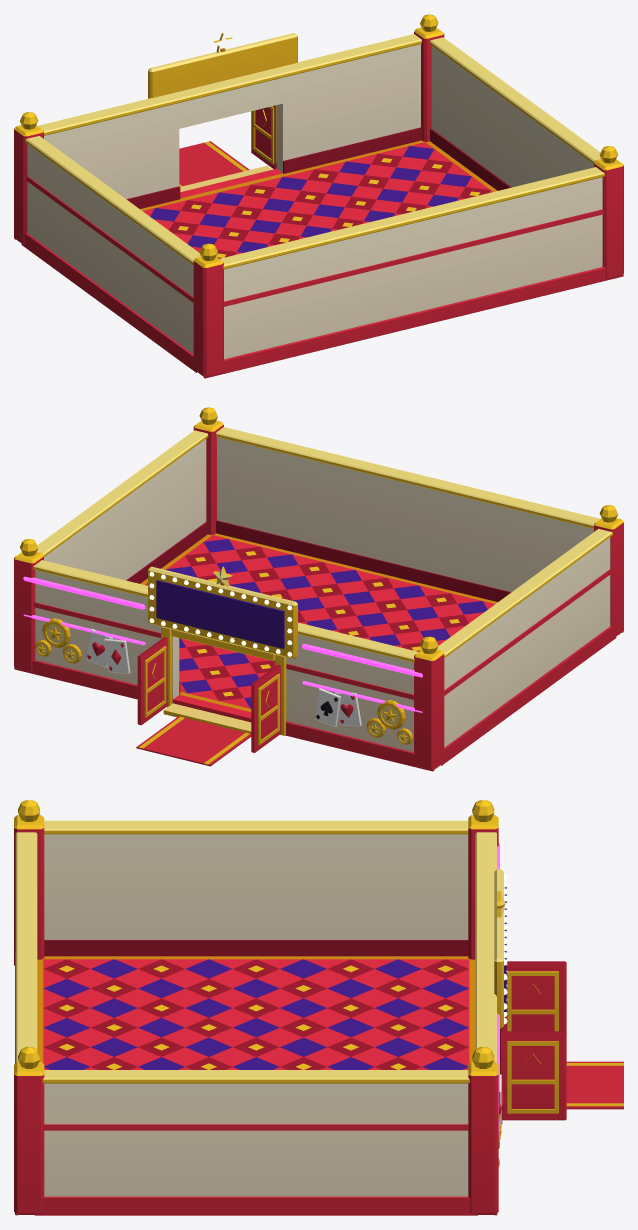
File: CasinoTier1.glb
3 views of the same model, one above another, from view 1: azimuth 30°, elevation 25°; view 2: azimuth 150°, elevation 25°; view 3: azimuth 270°, elevation 25° (orthographic). The views are drawn at different scales.
Parts seen in each view (by area): view 1: Walls, Floor, SignBoard, Door; view 2: Walls, Floor, SignBoard, Door, NeonStrip, Bulbs; view 3: Walls, Floor, Door, SignBoard.
Boxes of the visible parts, x1,y1,x2,y2 form: Walls: (14,14,623,378); Floor: (140,140,497,258); SignBoard: (148,33,297,98); Door: (251,105,276,169); Walls: (14,407,623,771); Floor: (136,533,497,766); SignBoard: (148,566,297,658); Door: (137,626,286,752); NeonStrip: (23,576,422,712); Bulbs: (149,571,292,656); Walls: (14,800,504,1215); Floor: (37,956,623,1109); Door: (500,961,566,1120); SignBoard: (494,869,506,1028).
Bounding box in the file's own units: 56.8 × 19.9 × 56.4.
Materials: 3 (1 with a texture image).
